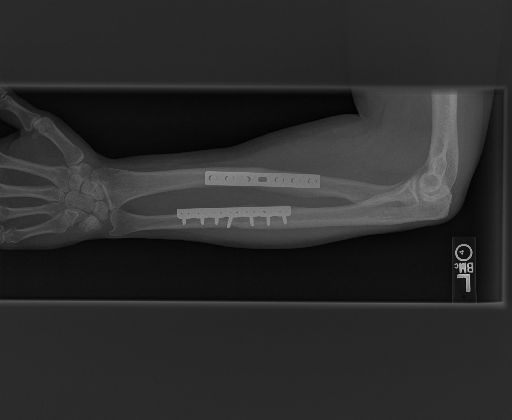implant: (205, 169, 322, 189), (174, 205, 292, 224)
